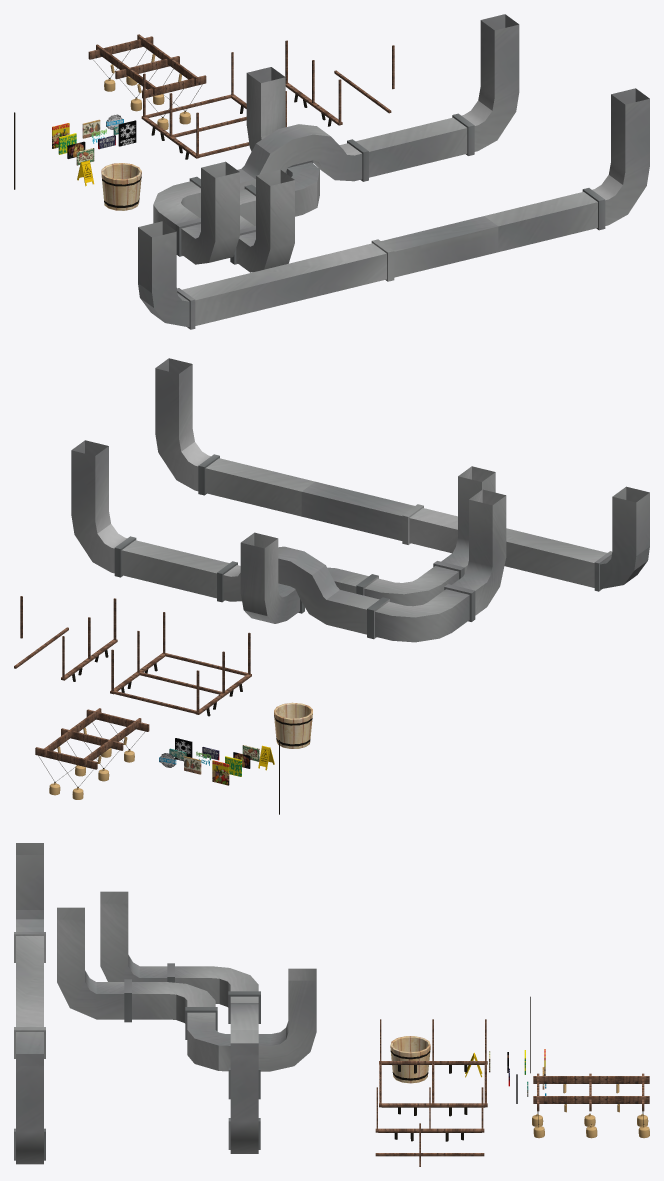
The model's file is ceilingdetailsAndStuff.fbx.
The picture shows the model from 3 angles, top to bottom: view 1: azimuth 30°, elevation 25°; view 2: azimuth 150°, elevation 25°; view 3: azimuth 270°, elevation 25°; orthographic projection. The views are drawn at different scales.
Parts seen in each view (by area): view 1: ceilingPipes2, ceilingPipes1, ceilingPipes, ceilingDetail2, ceilingDetailLamps, bucket, ceilingDetailLamps1; view 2: ceilingPipes2, ceilingPipes1, ceilingPipes, ceilingDetailLamps, ceilingDetail2, bucket, ceilingDetailLamps1; view 3: ceilingPipes, ceilingPipes1, ceilingPipes2, ceilingDetail2, ceilingDetailLamps, bucket, ceilingDetailLamps1.
Boxes of the visible parts, left/top/right/bottom form: ceilingPipes2: left=138, top=88, right=649, bottom=329; ceilingPipes1: left=153, top=14, right=519, bottom=264; ceilingPipes: left=230, top=67, right=319, bottom=272; ceilingDetail2: left=88, top=34, right=206, bottom=98; ceilingDetailLamps: left=141, top=52, right=286, bottom=158; bucket: left=101, top=163, right=141, bottom=210; ceilingDetailLamps1: left=285, top=40, right=342, bottom=125; ceilingPipes2: left=155, top=358, right=649, bottom=591; ceilingPipes1: left=71, top=440, right=506, bottom=642; ceilingPipes: left=240, top=466, right=495, bottom=623; ceilingDetailLamps: left=110, top=612, right=251, bottom=714; ceilingDetail2: left=35, top=708, right=149, bottom=769; bucket: left=274, top=702, right=312, bottom=748; ceilingDetailLamps1: left=61, top=598, right=117, bottom=680; ceilingPipes: left=57, top=907, right=316, bottom=1071; ceilingPipes1: left=100, top=891, right=260, bottom=1153; ceilingPipes2: left=14, top=843, right=45, bottom=1164; ceilingDetail2: left=533, top=1073, right=649, bottom=1111; ceilingDetailLamps: left=379, top=1019, right=487, bottom=1107; bucket: left=390, top=1036, right=430, bottom=1083; ceilingDetailLamps1: left=375, top=1087, right=484, bottom=1132.
Size of the model in its own units: 324 by 118 by 363.
